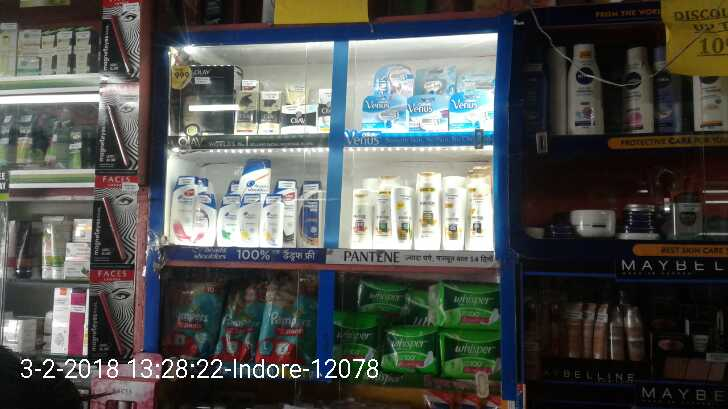venus: (362, 64, 409, 131), (411, 65, 450, 134), (453, 73, 495, 128)
